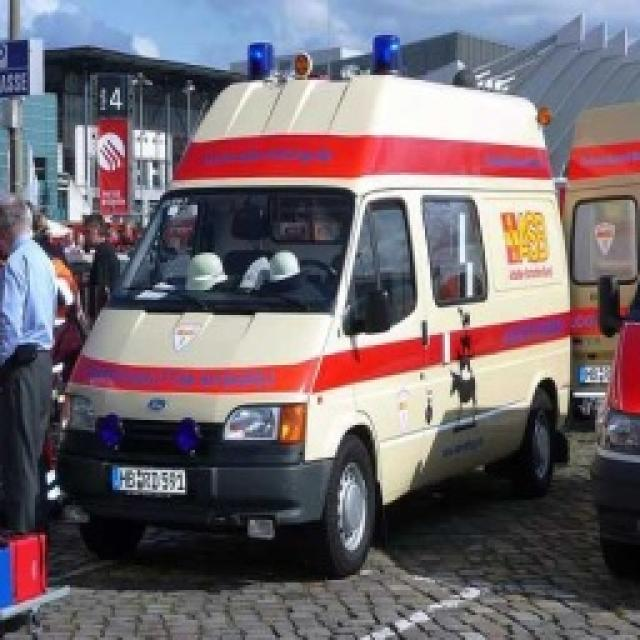emergency-vehicle: (1, 4, 554, 582)
